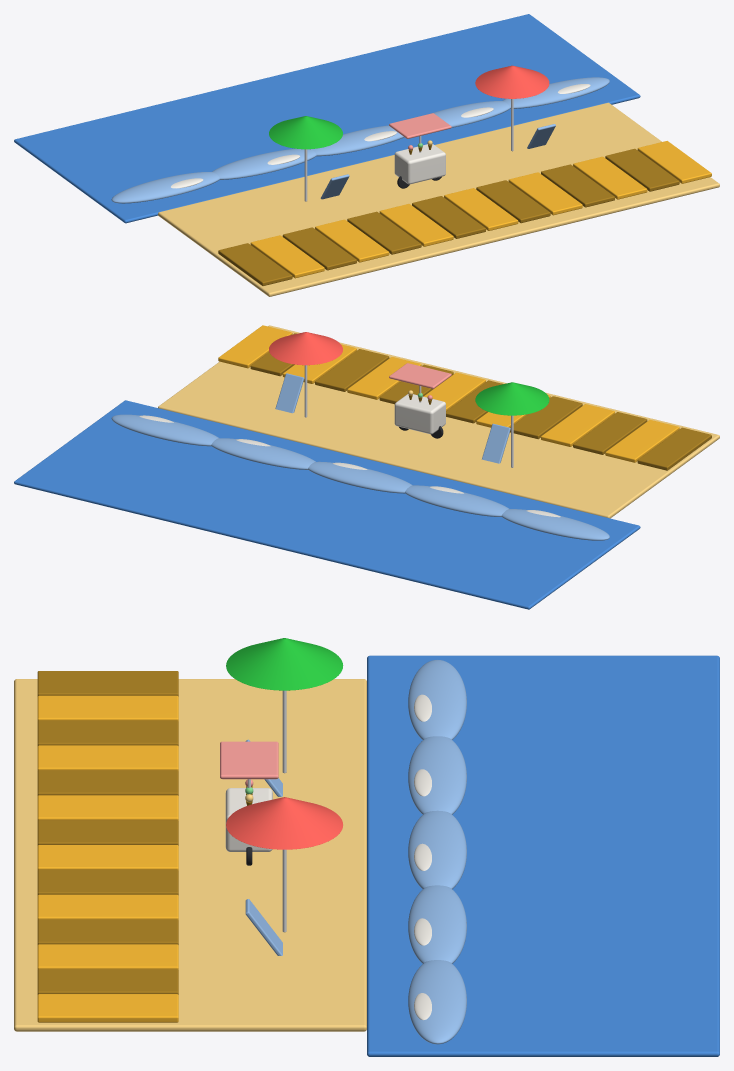
The model's file is beach_boardwalk.glb.
3 views of the same model, one above another, from view 1: azimuth 30°, elevation 25°; view 2: azimuth 150°, elevation 25°; view 3: azimuth 270°, elevation 25° (orthographic). The views are drawn at different scales.
Parts seen in each view (by area): view 1: Flat_002, Set, Flat_001, Part_004, Part_007, Part_016, Part_010, Part_013; view 2: Flat_002, Flat_001, Set, Part_004, Part_016, Part_007, Part_010, Part_013; view 3: Flat_002, Flat_001, Set, Part_016, Part_004, Part_013, Part_007, Part_010.
Part boxes in pixels (left/top/right/bottom): Flat_002: left=14, top=14, right=640, bottom=223; Set: left=218, top=65, right=711, bottom=285; Flat_001: left=158, top=102, right=719, bottom=296; Part_004: left=111, top=172, right=219, bottom=203; Part_007: left=212, top=148, right=316, bottom=179; Part_016: left=502, top=77, right=609, bottom=108; Part_010: left=311, top=125, right=404, bottom=156; Part_013: left=432, top=101, right=510, bottom=127; Flat_002: left=14, top=400, right=640, bottom=609; Flat_001: left=158, top=325, right=719, bottom=518; Set: left=218, top=325, right=711, bottom=470; Part_004: left=501, top=509, right=609, bottom=540; Part_016: left=111, top=414, right=218, bottom=446; Part_007: left=405, top=485, right=508, bottom=516; Part_010: left=308, top=461, right=412, bottom=493; Part_013: left=211, top=438, right=315, bottom=469; Flat_002: left=367, top=655, right=719, bottom=1056; Flat_001: left=14, top=679, right=366, bottom=1031; Set: left=37, top=638, right=343, bottom=1022; Part_016: left=408, top=960, right=466, bottom=1044; Part_004: left=408, top=659, right=466, bottom=739; Part_013: left=408, top=885, right=466, bottom=963; Part_007: left=408, top=736, right=466, bottom=814; Part_010: left=408, top=810, right=466, bottom=889.
Size of the model in its own units: 16 by 2.68 by 12.
